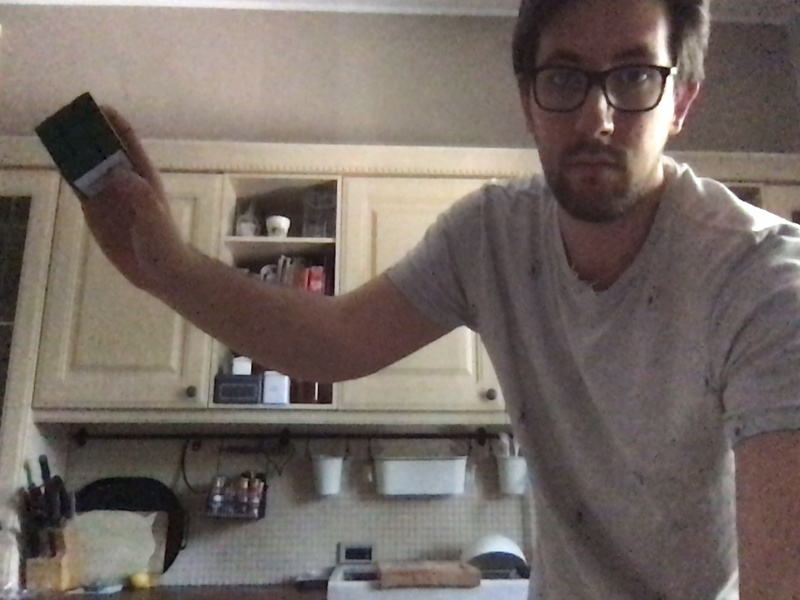rubik: (35, 92, 134, 201)
